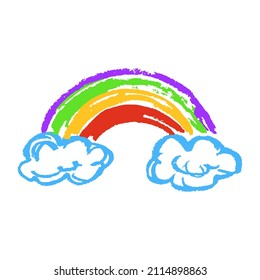cloud: (144, 134, 242, 192), (16, 132, 115, 185)
rainbow: (39, 67, 217, 141)
